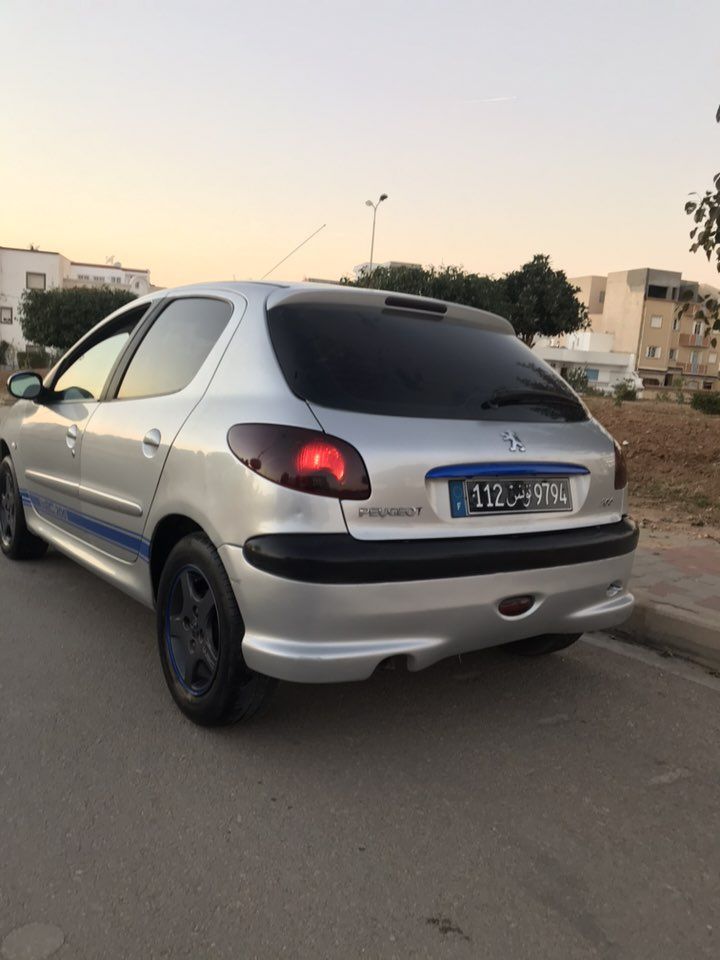LP: (461, 467, 579, 519)
